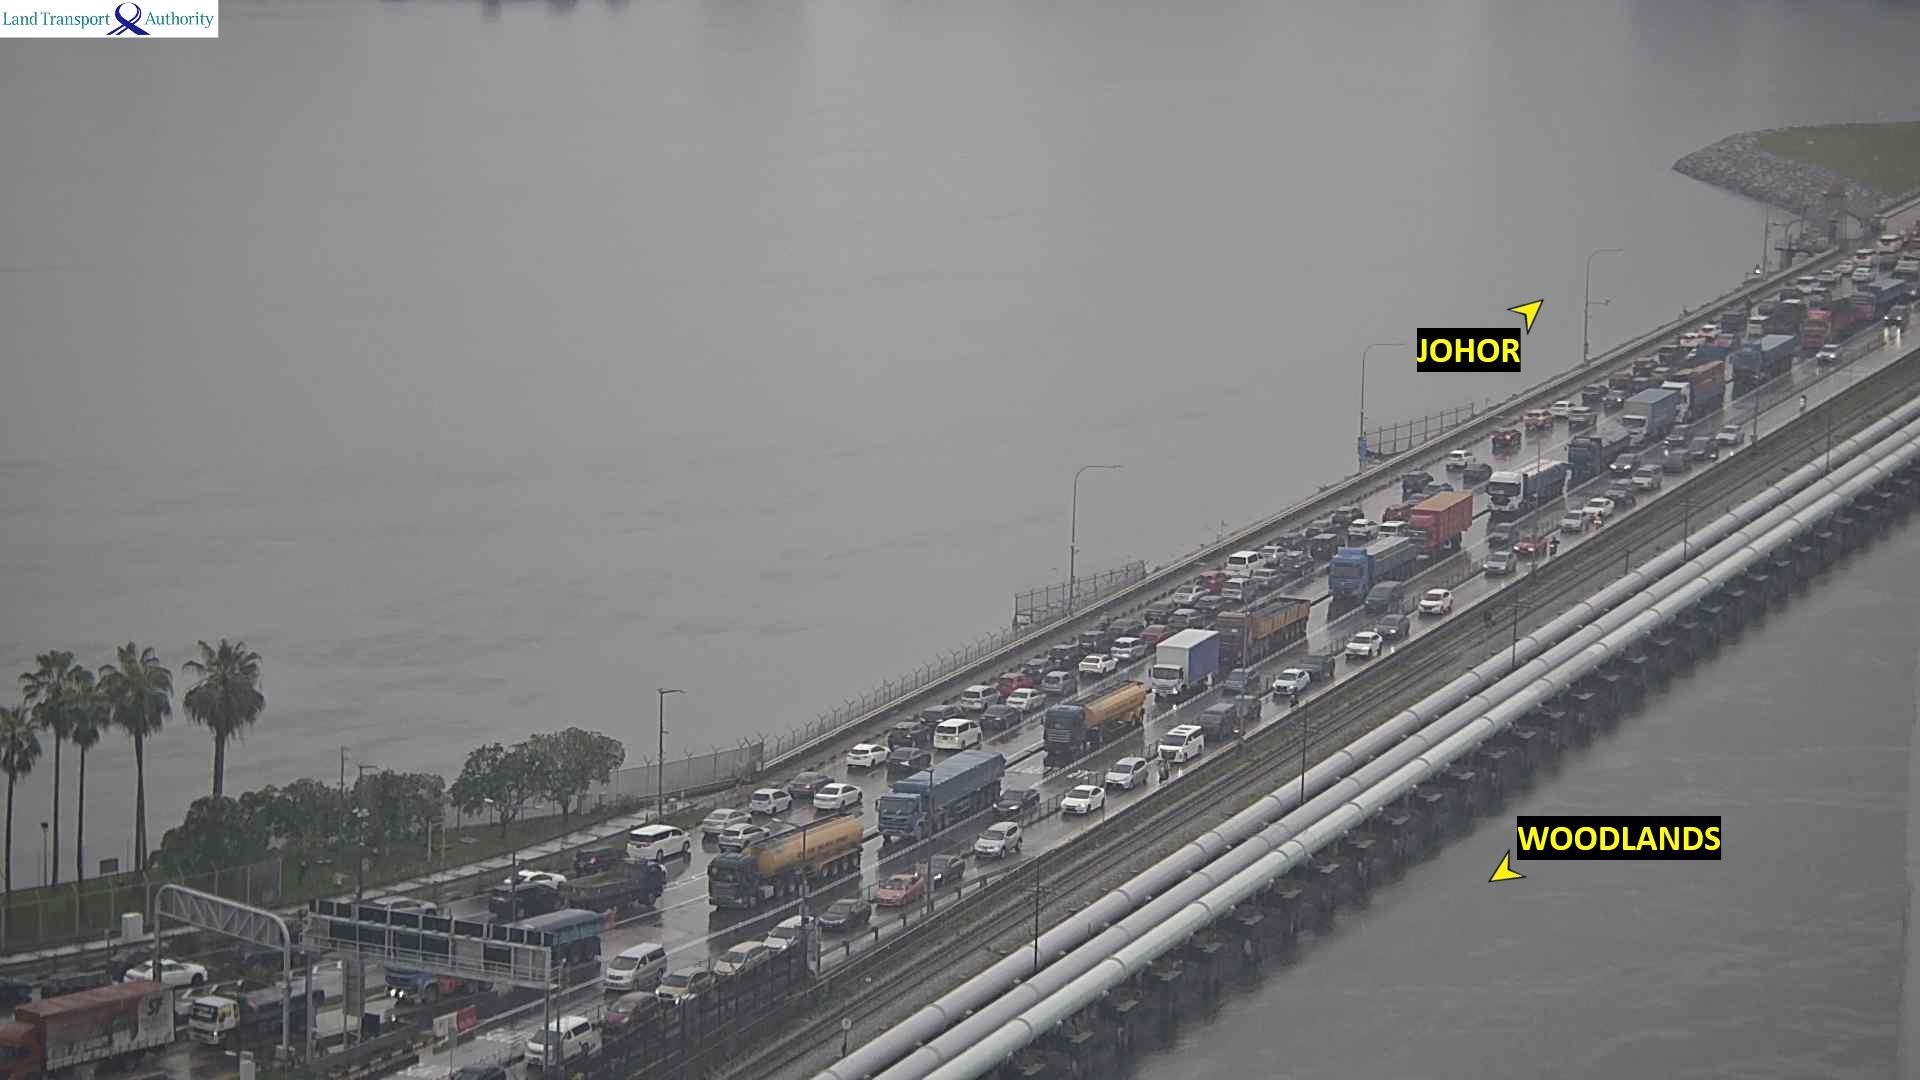vehicle-causeway-johor: (568, 858, 659, 906), (116, 961, 207, 990), (931, 720, 982, 750), (816, 779, 865, 811), (492, 886, 558, 909), (719, 820, 769, 847), (746, 787, 795, 812), (1034, 670, 1081, 694), (626, 825, 686, 844), (571, 847, 617, 870), (1072, 654, 1122, 675), (844, 748, 890, 770), (704, 811, 756, 831), (1451, 465, 1502, 485), (1005, 687, 1042, 712), (787, 771, 831, 793), (1112, 640, 1154, 661), (372, 897, 433, 911), (1076, 654, 1120, 674), (1518, 410, 1553, 434), (509, 870, 566, 885), (894, 721, 926, 746), (963, 684, 994, 708), (984, 705, 1017, 728), (927, 705, 964, 725), (1220, 580, 1255, 600), (1345, 522, 1389, 538), (1312, 534, 1337, 560), (1332, 504, 1365, 524), (1569, 407, 1598, 429), (1493, 429, 1519, 450), (1001, 673, 1031, 690), (1226, 550, 1255, 567), (1113, 616, 1141, 633), (1257, 570, 1280, 589), (1346, 520, 1374, 535), (1606, 389, 1625, 411), (1172, 583, 1197, 599), (1610, 373, 1630, 393), (1582, 385, 1602, 402), (1447, 452, 1472, 465), (1403, 472, 1433, 483), (1262, 546, 1286, 559), (1656, 345, 1680, 359), (1680, 334, 1702, 347), (1635, 359, 1655, 373), (1552, 401, 1569, 414)
vehicle-causeway-singapore: (708, 815, 858, 910), (480, 913, 608, 986), (885, 756, 1007, 824), (1042, 684, 1146, 758), (1327, 541, 1420, 605), (1146, 625, 1226, 700), (1208, 604, 1307, 662), (1478, 465, 1561, 509), (1398, 498, 1466, 549), (607, 949, 676, 996), (1658, 373, 1724, 422), (1733, 338, 1803, 381), (1622, 397, 1685, 440), (1575, 426, 1625, 476), (529, 1018, 589, 1059), (1809, 302, 1879, 331), (767, 915, 812, 955), (1156, 725, 1203, 764), (1861, 286, 1916, 318), (716, 942, 764, 976), (874, 870, 922, 905), (976, 822, 1019, 857), (919, 853, 965, 884), (1058, 785, 1105, 814), (1106, 758, 1149, 789), (816, 906, 866, 930), (1199, 704, 1236, 736), (443, 1062, 505, 1080), (996, 787, 1039, 811), (1366, 583, 1400, 609), (1276, 667, 1308, 695), (1302, 651, 1333, 679), (1345, 632, 1378, 658), (1580, 495, 1621, 514), (1374, 615, 1407, 638), (1418, 589, 1451, 613), (1518, 533, 1548, 556), (1226, 667, 1257, 690), (1615, 472, 1655, 489), (1486, 550, 1514, 574), (1688, 436, 1714, 460), (1664, 448, 1692, 471), (1559, 510, 1588, 531), (1717, 425, 1745, 446), (1887, 305, 1911, 327), (1816, 342, 1838, 363), (1800, 394, 1809, 410)
